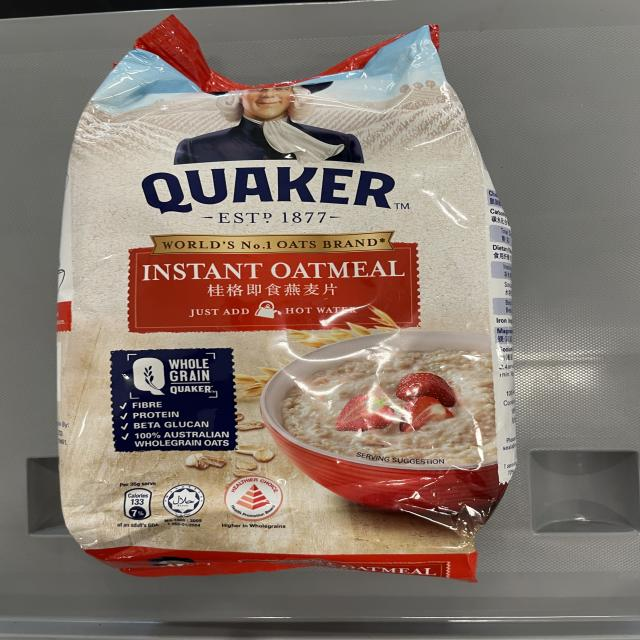object_name: (81, 79, 479, 564)
